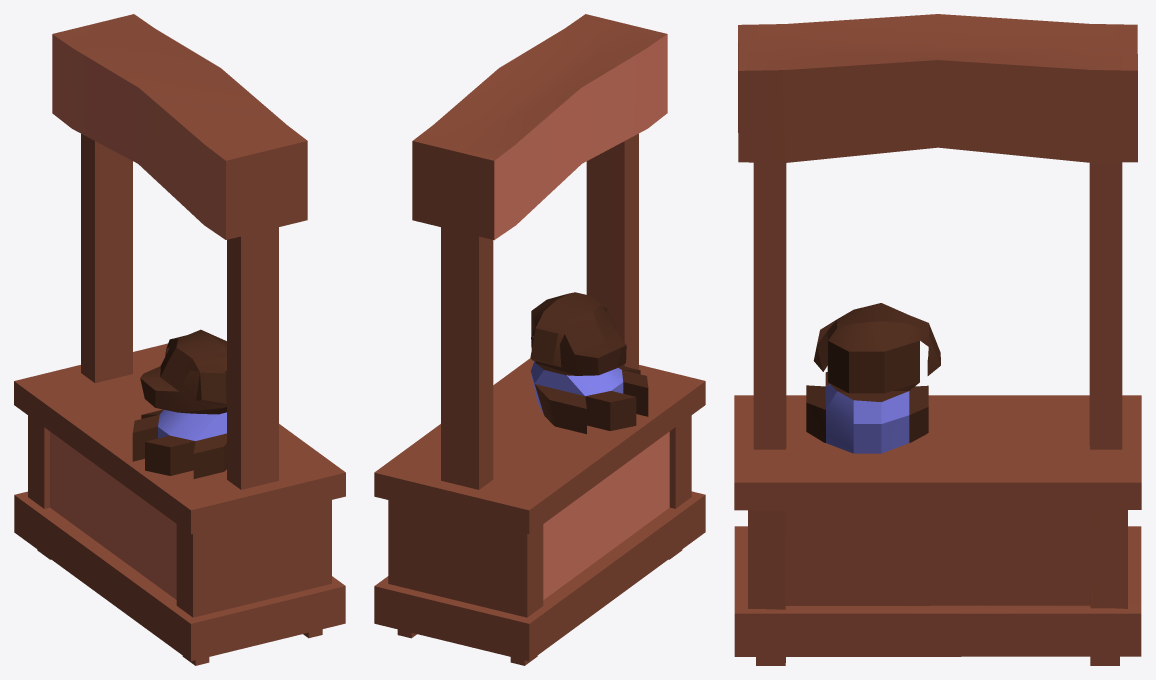
Rendered from VR.fbx_stand_1.fbx.
3 views of the same model, side by side, from view 1: azimuth 30°, elevation 25°; view 2: azimuth 150°, elevation 25°; view 3: azimuth 270°, elevation 25° (orthographic). The views are drawn at different scales.
Parts seen in each view (by area): view 1: stand 1; view 2: stand 1; view 3: stand 1.
Part boxes in pixels (x1,y1,x2,y2): stand 1: [14, 14, 345, 665]; stand 1: [374, 14, 705, 665]; stand 1: [734, 14, 1141, 665].
Bounding box in the file's own units: 30.92 × 97.91 × 60.98.
